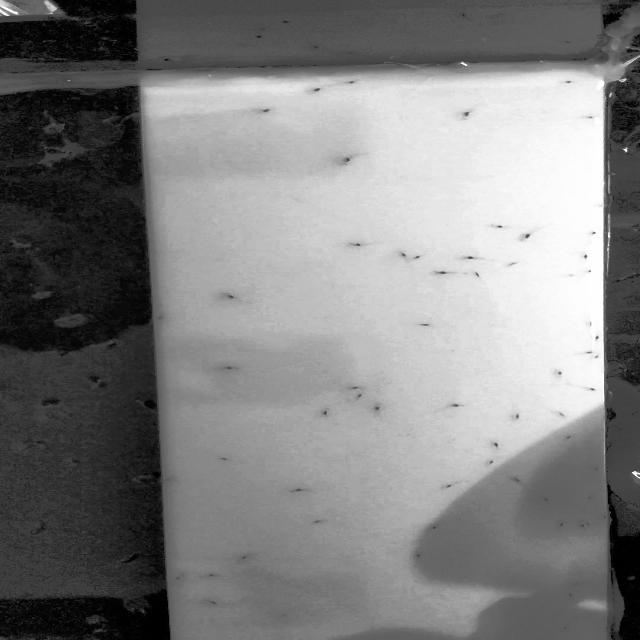shrimp: (518, 223, 562, 241), (482, 455, 512, 473), (462, 252, 498, 264), (425, 268, 468, 278), (492, 221, 522, 232), (551, 519, 577, 530), (309, 409, 340, 418), (410, 250, 432, 262), (396, 251, 416, 264), (348, 390, 376, 399), (368, 399, 386, 413), (550, 434, 575, 444), (468, 270, 491, 280), (486, 437, 505, 449), (552, 408, 572, 419), (308, 86, 332, 95), (342, 383, 366, 392), (575, 268, 596, 278), (220, 292, 246, 300), (413, 321, 438, 329), (590, 351, 610, 361), (423, 522, 445, 531), (341, 76, 360, 86), (288, 486, 311, 494), (204, 598, 227, 606), (500, 261, 530, 267), (554, 624, 574, 633), (232, 554, 250, 564), (577, 494, 599, 502), (558, 365, 570, 379), (170, 570, 184, 582), (340, 156, 358, 165), (221, 366, 248, 372), (508, 410, 524, 420), (576, 253, 590, 264), (443, 481, 460, 490), (444, 402, 463, 410), (307, 518, 332, 524), (588, 465, 604, 474), (539, 493, 553, 503), (579, 349, 596, 357), (353, 241, 369, 249), (152, 314, 168, 322), (576, 523, 590, 532), (581, 519, 595, 528), (216, 456, 237, 462), (561, 272, 576, 280), (461, 110, 477, 117), (508, 476, 522, 484), (579, 387, 597, 393), (258, 109, 275, 115), (578, 113, 592, 120), (588, 335, 602, 342), (207, 571, 221, 578), (599, 514, 608, 522), (568, 593, 580, 599), (161, 478, 177, 482), (562, 80, 572, 86), (416, 553, 426, 559)
